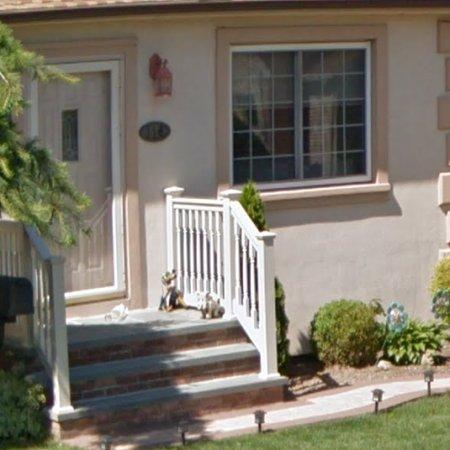stairs: (60, 310, 287, 437)
